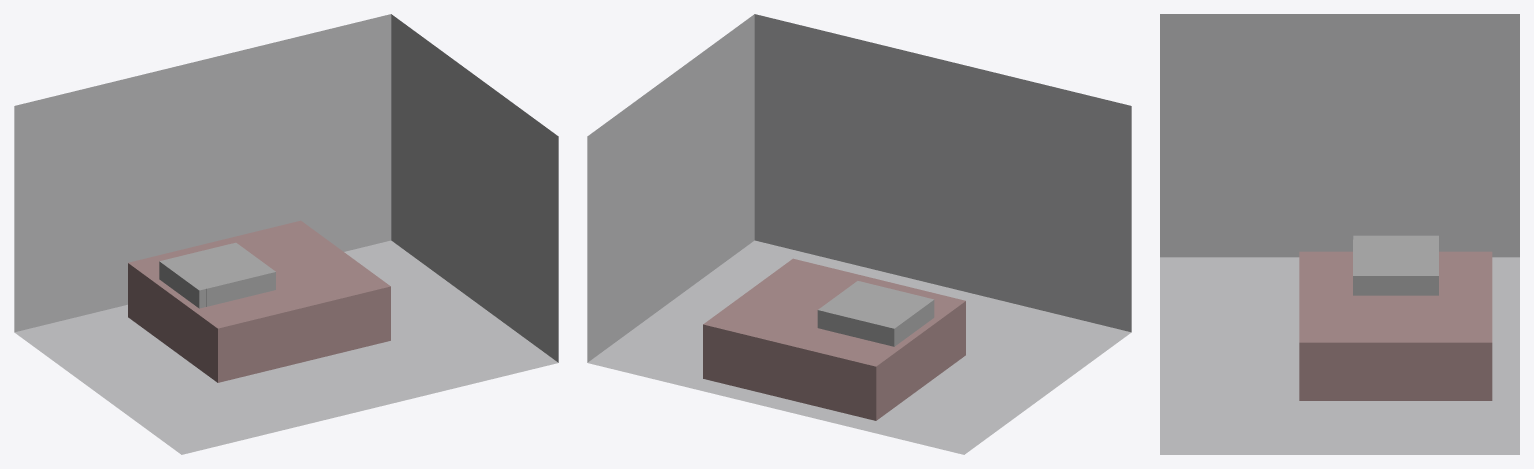
File: current_layout.glb
The picture shows the model from 3 angles, left to right: view 1: azimuth 30°, elevation 25°; view 2: azimuth 150°, elevation 25°; view 3: azimuth 270°, elevation 25°; orthographic projection. The views are drawn at different scales.
Parts seen in each view (by area): view 1: room, bed, tableLamp, studyTable; view 2: room, bed, studyTable, tableLamp; view 3: room, bed, tableLamp, studyTable.
Part boxes in pixels (x1=…): room: x1=14, y1=14, x2=558, y2=454; bed: x1=128, y1=220, x2=390, y2=382; tableLamp: x1=167, y1=242, x2=275, y2=306; studyTable: x1=159, y1=259, x2=255, y2=308; room: x1=587, y1=14, x2=1131, y2=454; bed: x1=703, y1=258, x2=965, y2=420; studyTable: x1=825, y1=283, x2=934, y2=346; tableLamp: x1=817, y1=281, x2=926, y2=329; room: x1=1160, y1=14, x2=1519, y2=454; bed: x1=1299, y1=251, x2=1492, y2=400; tableLamp: x1=1353, y1=239, x2=1438, y2=295; studyTable: x1=1353, y1=235, x2=1438, y2=254.
Bounding box in the file's own units: 4.36 × 2.5 × 3.35.
